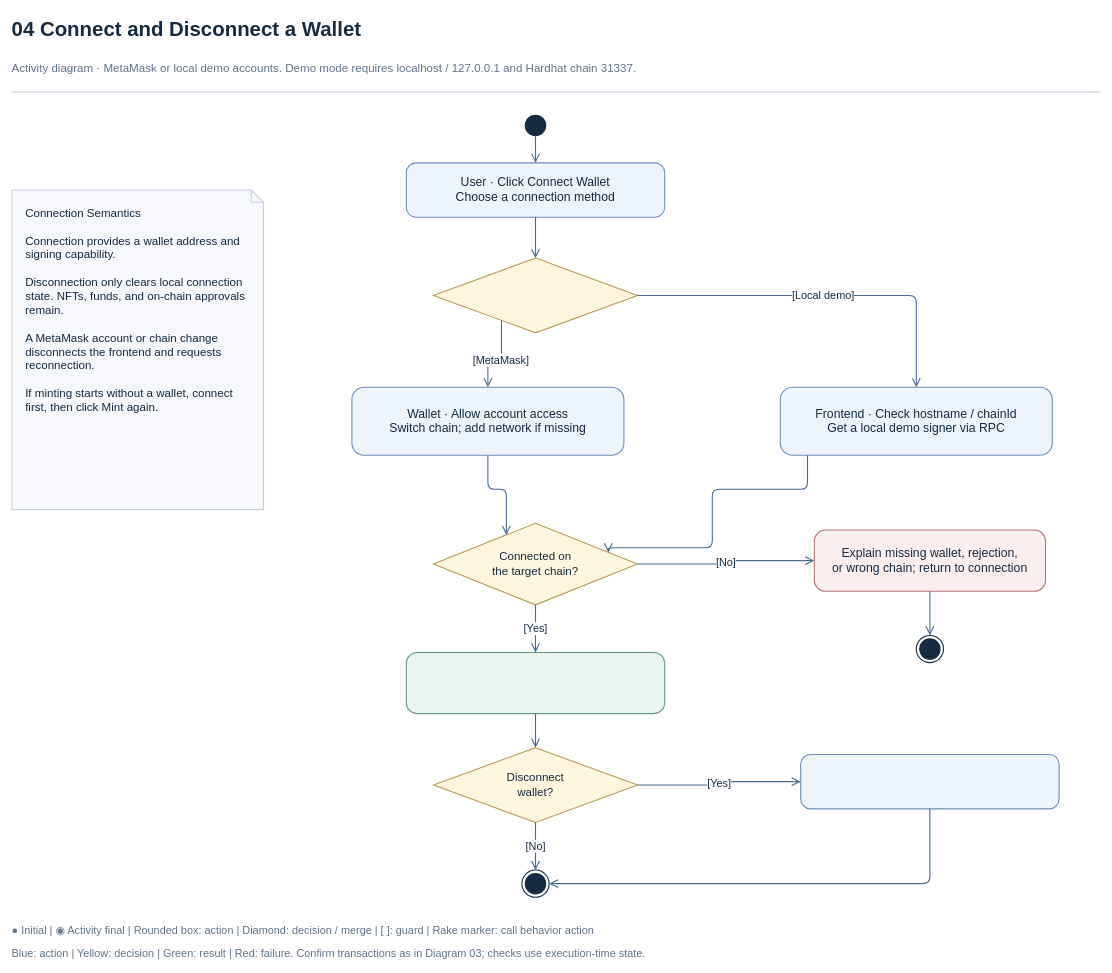
Image size: 1112x973. Some labels were removed from this diagram. The centre of each missing label's shape, as x and y in pixels:
"Connection method?" belongs at point (535, 295).
"Frontend · Set signer; save session choice Load ETH, NFTs, bids, pending balance" belongs at point (535, 683).
"User · Disconnect wallet Clear frontend signer and session choice" belongs at point (929, 781).
